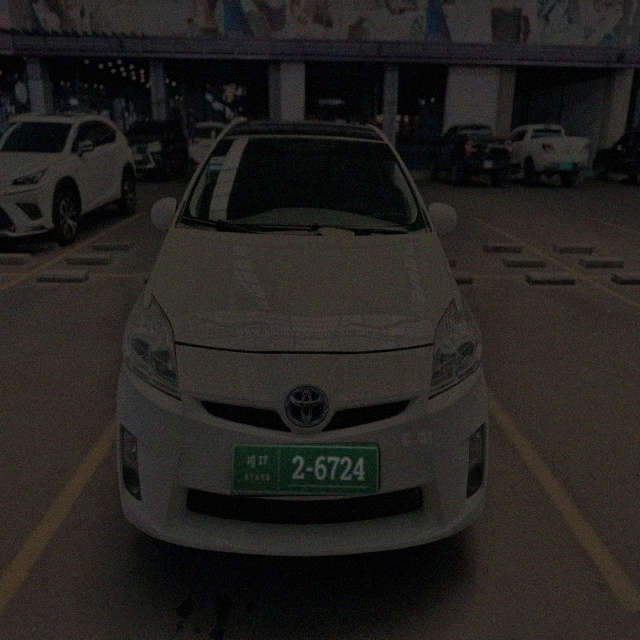Plate Number: (231, 444, 380, 495)
